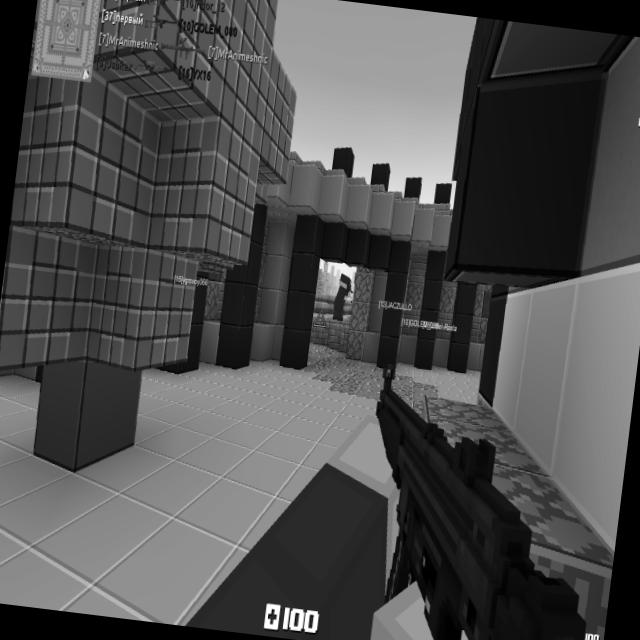enemy: (331, 272, 354, 322)
